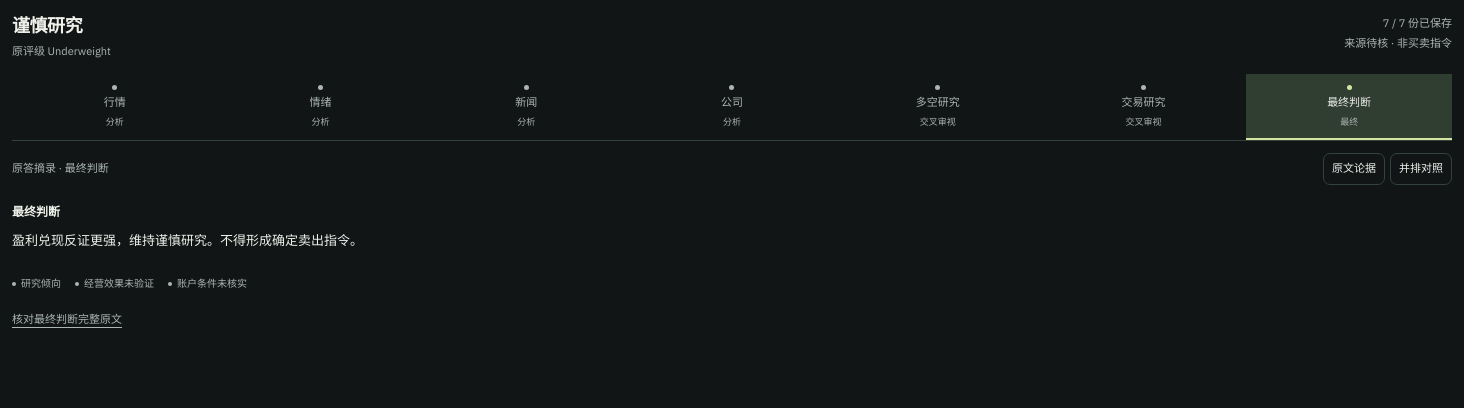
Scenario: compares two named originals and switches a source without producing another report
Click the button "并排对照": click(1421, 169) top-left (1390, 153), bottom-right (1452, 185)
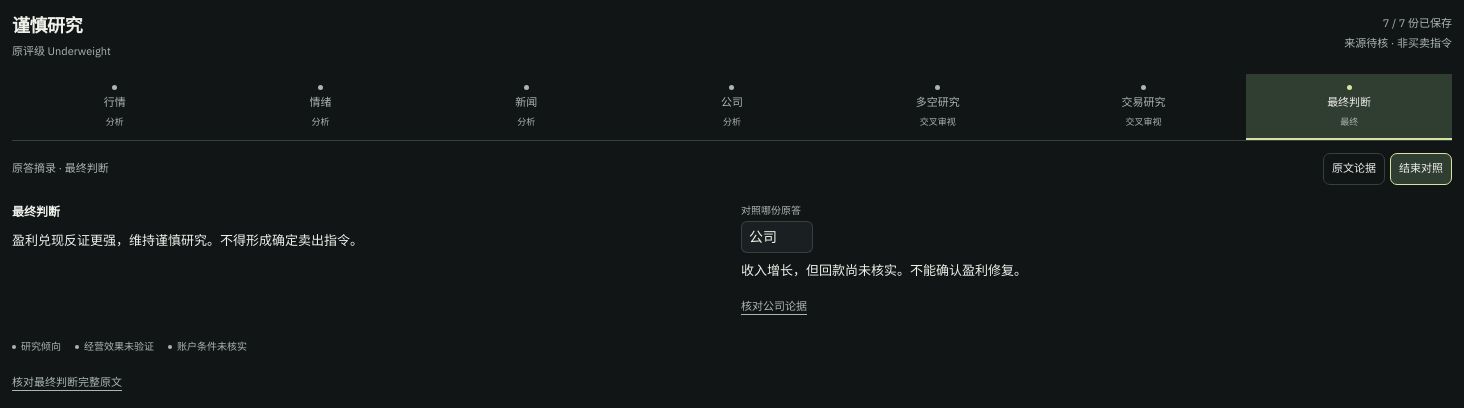
Result: the element named "对照报告摘录" shows "收入增长，但回款尚未核实。" at top-left (741, 262), bottom-right (1027, 279)
Select "新闻" in the dropdown labelled "对照哪份原答": (777, 237) top-left (741, 221), bottom-right (813, 253)
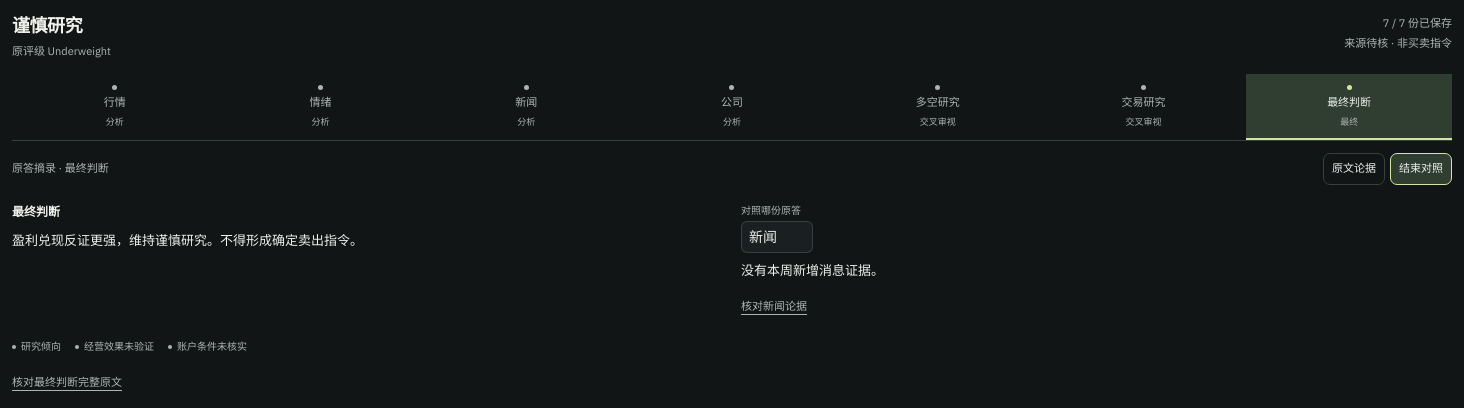
Result: the element named "对照报告摘录" shows "没有本周新增消息证据。" at top-left (741, 262), bottom-right (884, 279)
Click the tab "公司 分析": click(732, 107) top-left (629, 74), bottom-right (835, 140)
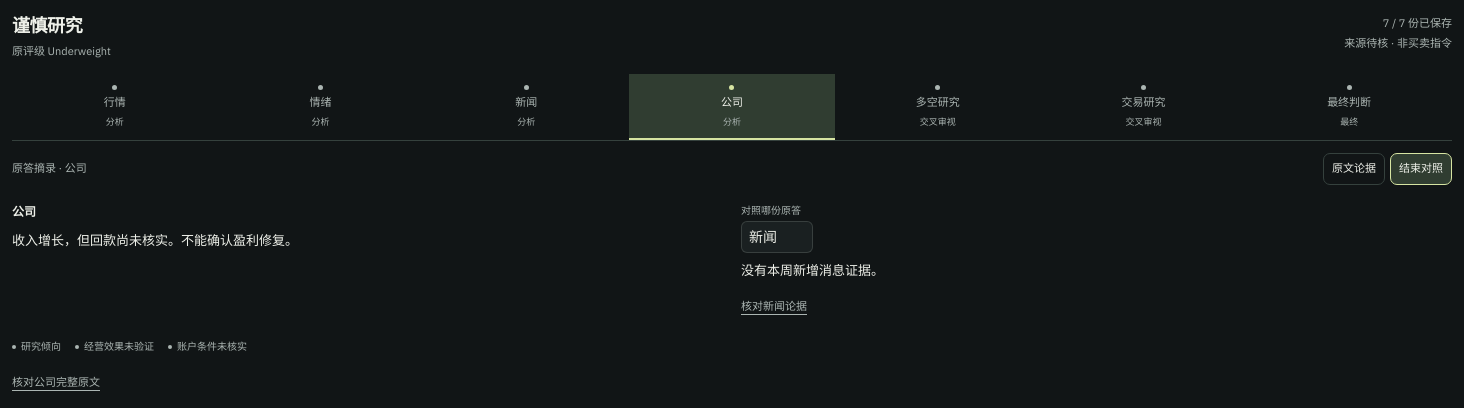
Result: the panel shows "收入增长，但回款尚未核实。" at top-left (12, 232), bottom-right (298, 248)
